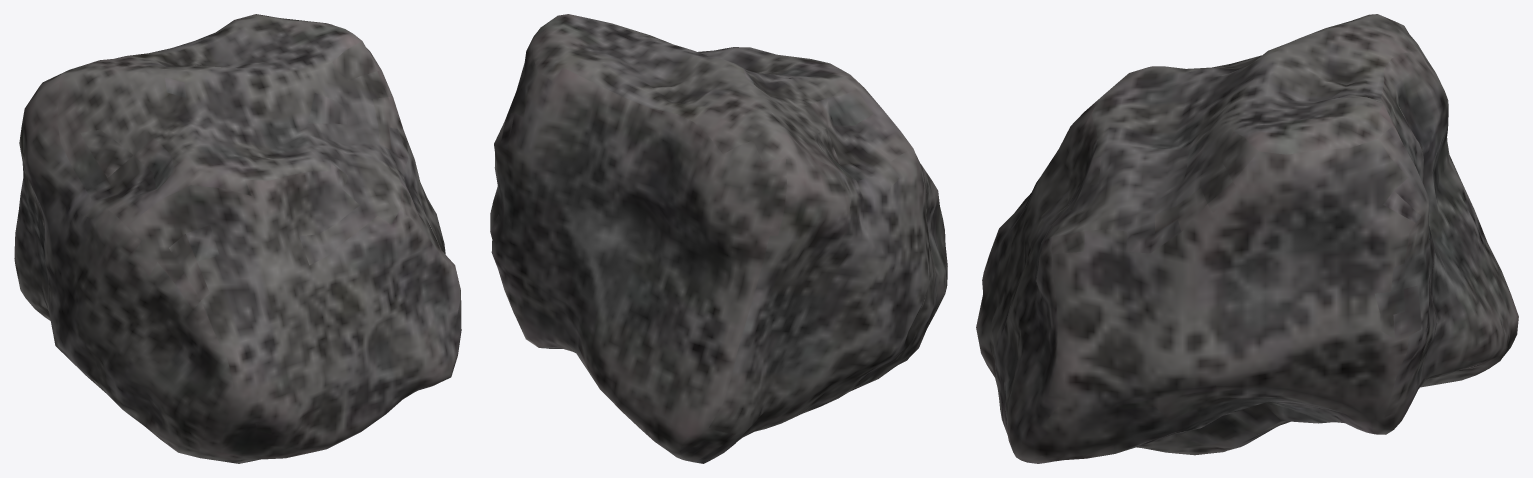
The model's file is asteroid_2.glb.
The picture shows the model from 3 angles, left to right: view 1: azimuth 30°, elevation 25°; view 2: azimuth 150°, elevation 25°; view 3: azimuth 270°, elevation 25°; orthographic projection. The views are drawn at different scales.
Parts seen in each view (by area): view 1: asteroid_2; view 2: asteroid_2; view 3: asteroid_2.
Part boxes in pixels (x1,y1,x2,y2): asteroid_2: (14, 14, 461, 463); asteroid_2: (490, 14, 947, 463); asteroid_2: (976, 14, 1518, 463).
Bounding box in the file's own units: 1.51 × 1.41 × 1.7.
Materials: 1 (1 with a texture image).
